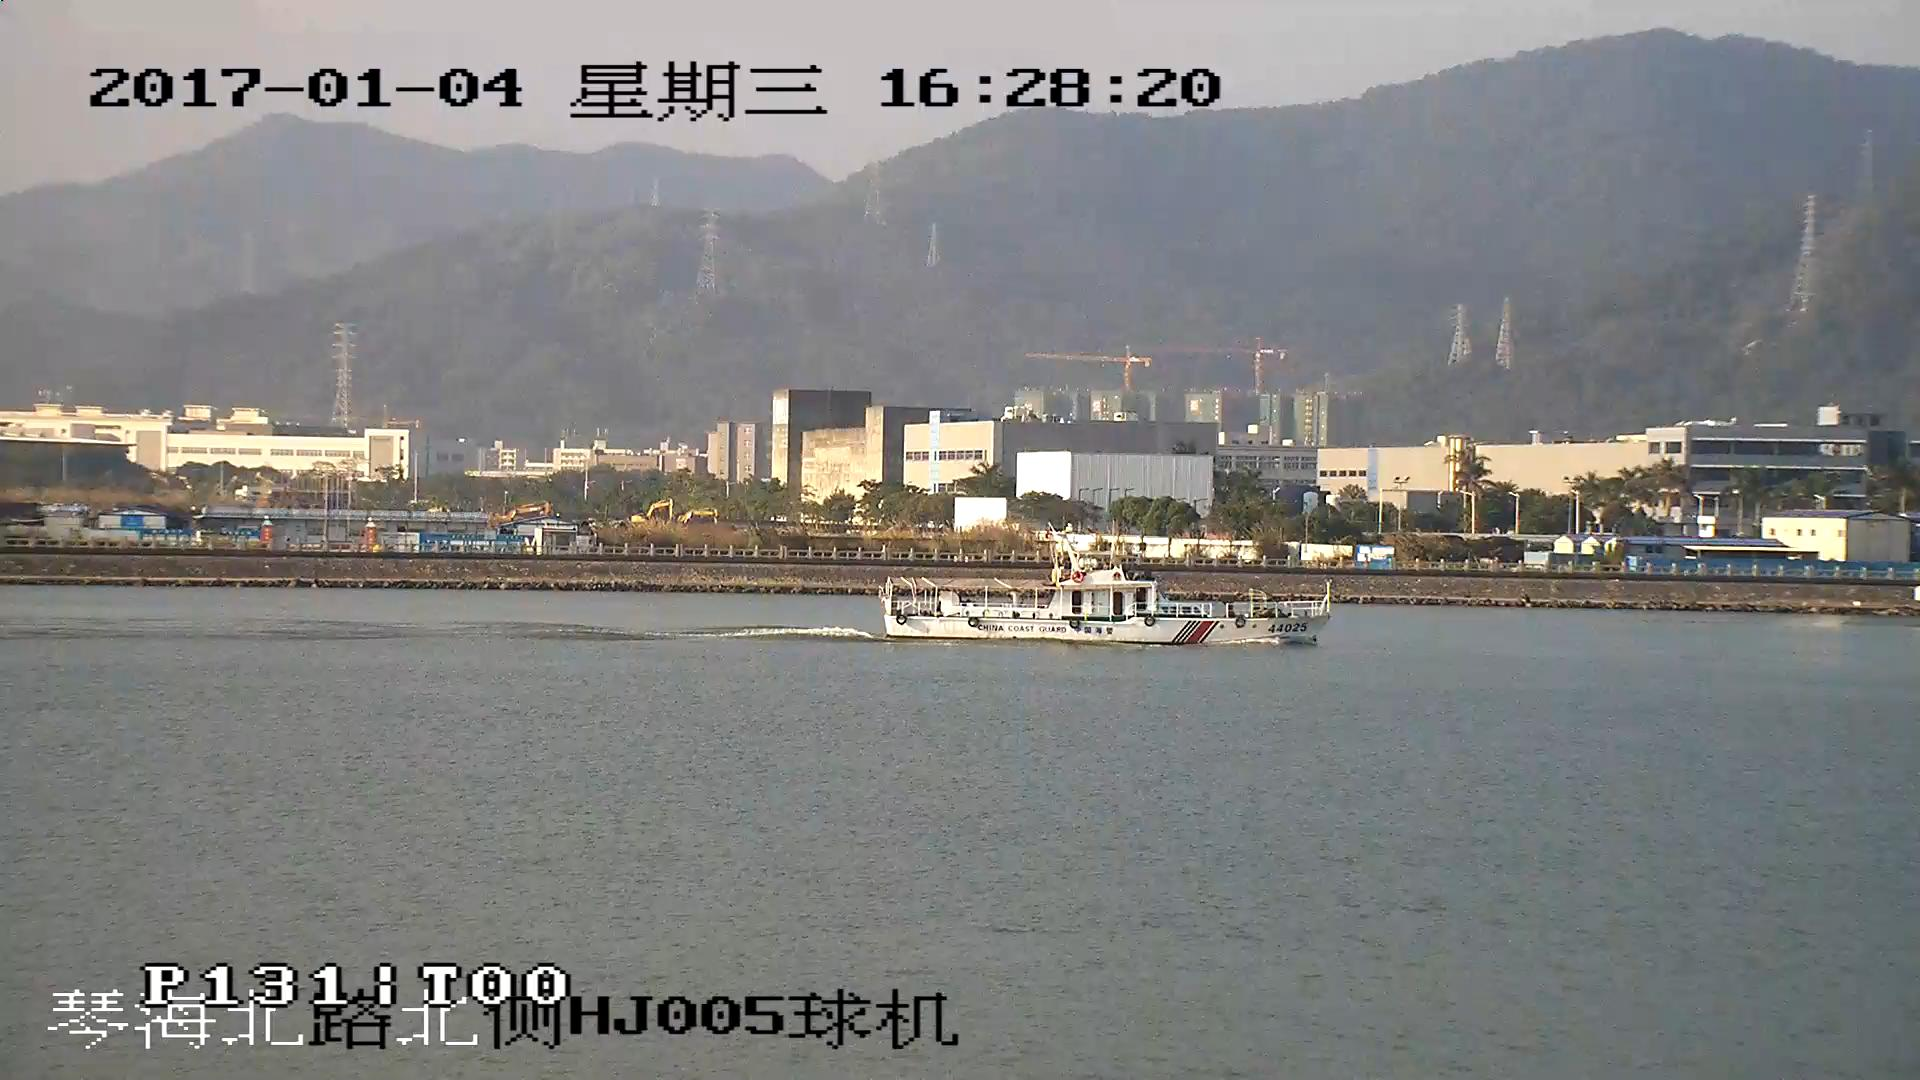passenger ship: (874, 532, 1334, 644)
